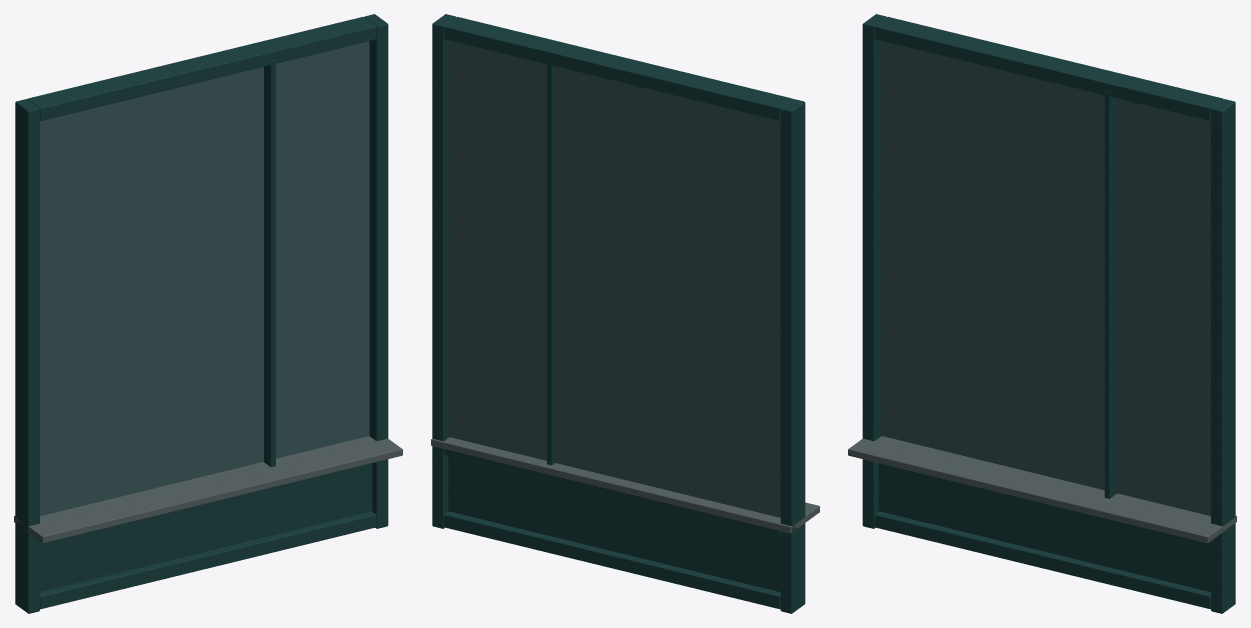
Rendered from glazed_display_bay_2m.glb.
3 renders of one model, left to right at view 1: azimuth 30°, elevation 25°; view 2: azimuth 150°, elevation 25°; view 3: azimuth 330°, elevation 25°, orthographic.
Parts seen in each view (by area): view 1: glazed_display_bay_2m; view 2: glazed_display_bay_2m; view 3: glazed_display_bay_2m.
Part boxes in pixels (left/top/right/bottom): glazed_display_bay_2m: left=14, top=14, right=402, bottom=613; glazed_display_bay_2m: left=431, top=14, right=819, bottom=613; glazed_display_bay_2m: left=848, top=14, right=1236, bottom=613.
Bounding box in the file's own units: 2 × 2.67 × 0.28.
Materials: 3 (3 with a texture image).
